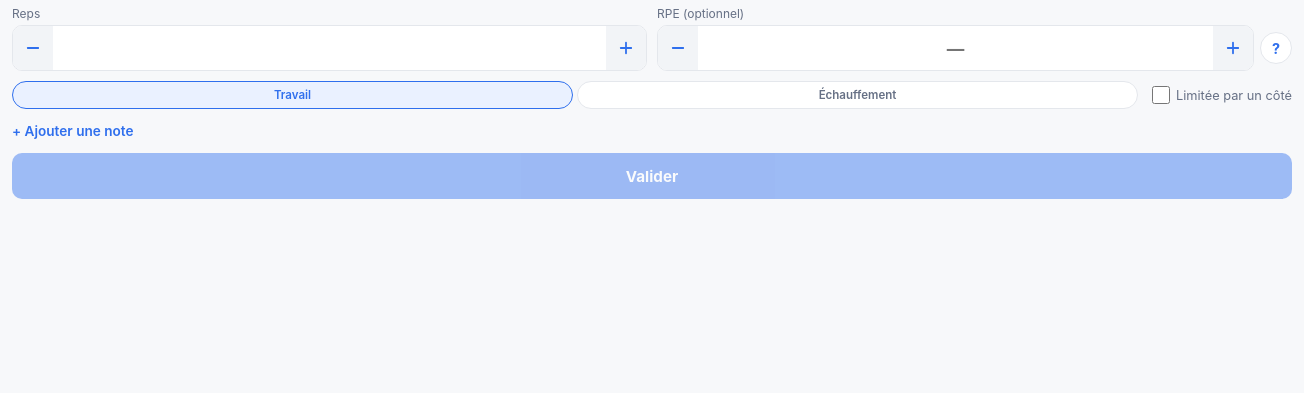
SeriesForm — rôle, drapeau et aide RPE (lot 4A) › l'aide RPE se déplie sur « ? » avec les six lignes de l'échelle en vigueur
This screenshot has width=1304, height=393.
Click the button named "Échelle de RPE": (1276, 48) [1260,32,1292,64]
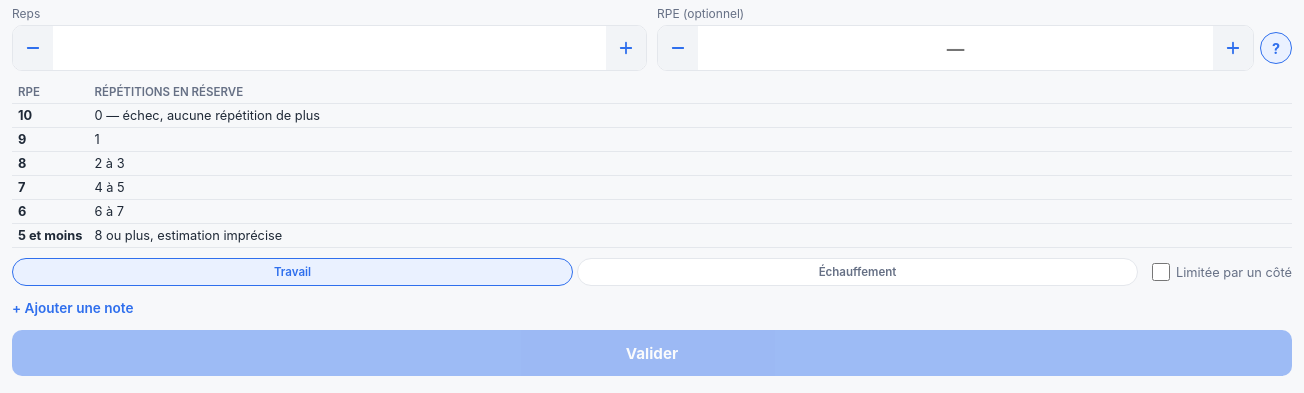
Expected: the button named "Échelle de RPE" is expanded
Click the button named "Échelle de RPE": (1276, 48) [1260,32,1292,64]
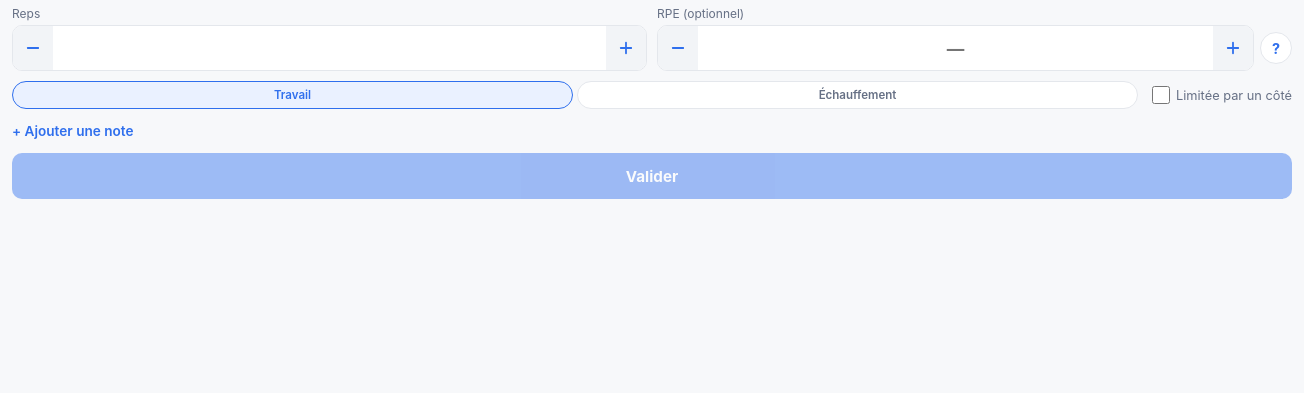
Expected: the table is gone
